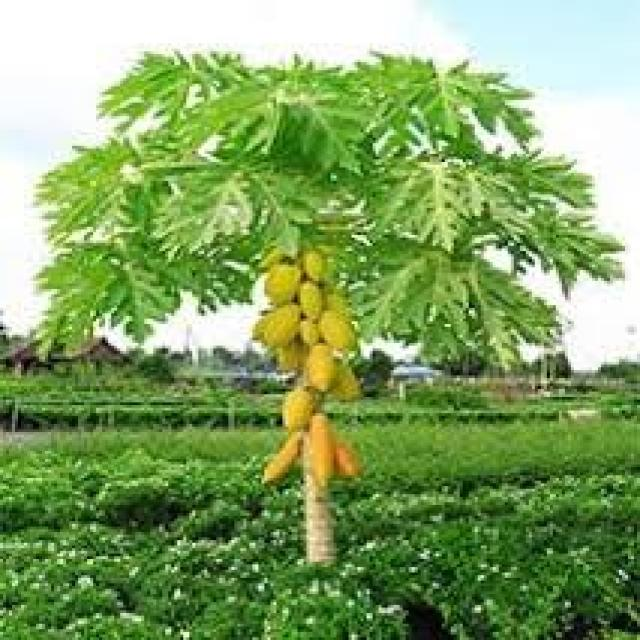Papaya-Tree: (26, 22, 607, 565)
